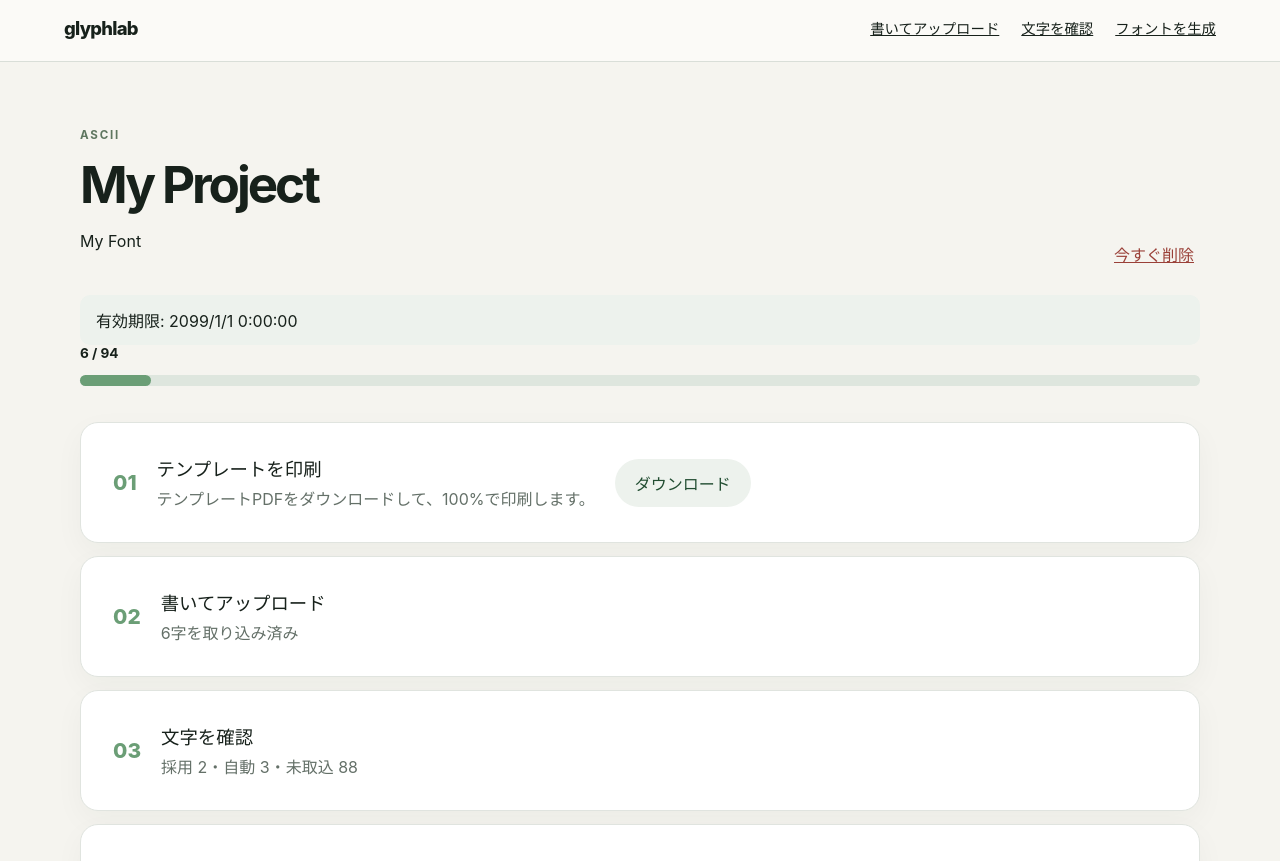
shows template errors instead of creating an unhandled rejection
The width and height of the screenshot is (1280, 861).
Click the button "ダウンロード": (683, 482) [615,458,751,506]
(page scrolled)
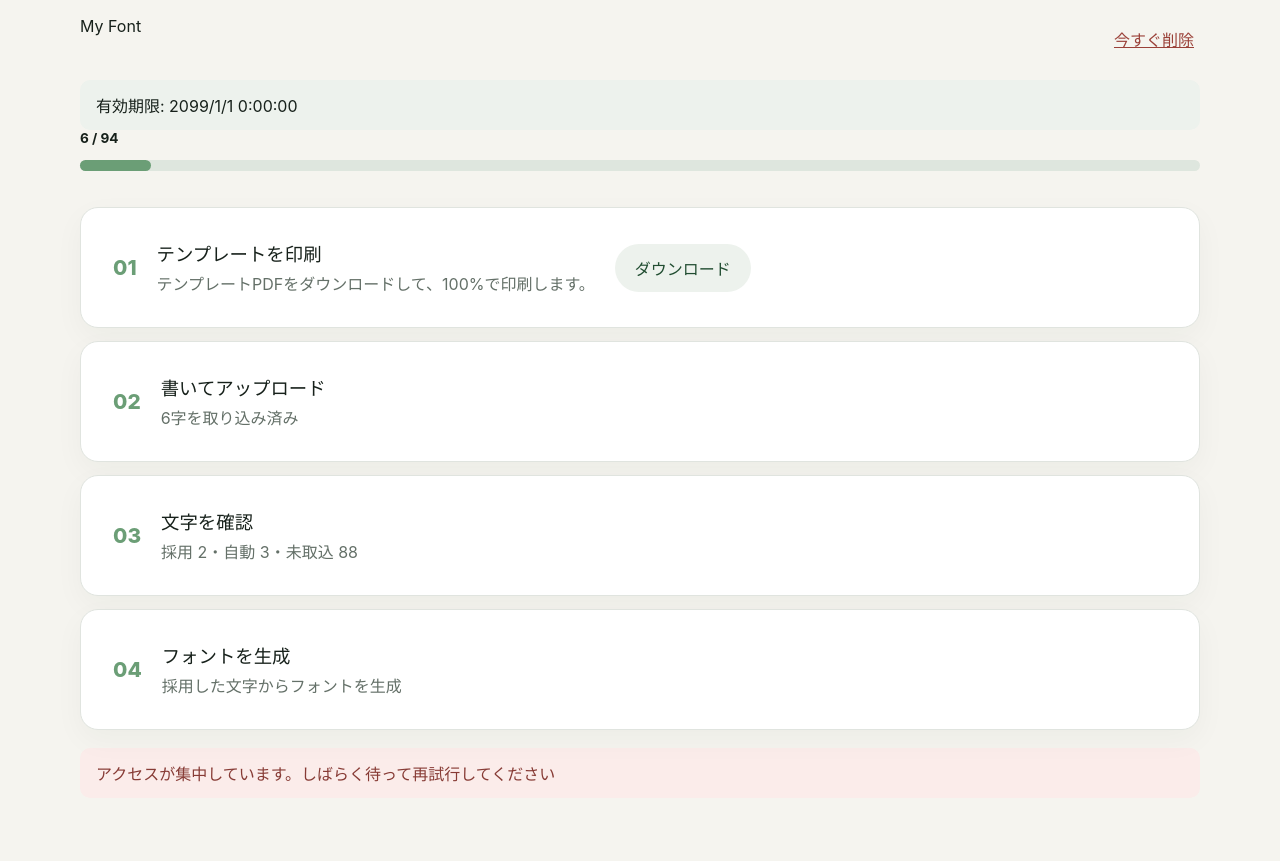
Expected: the message reads "アクセスが集中しています。しばらく待って再試行してください", [96,764,555,784]
